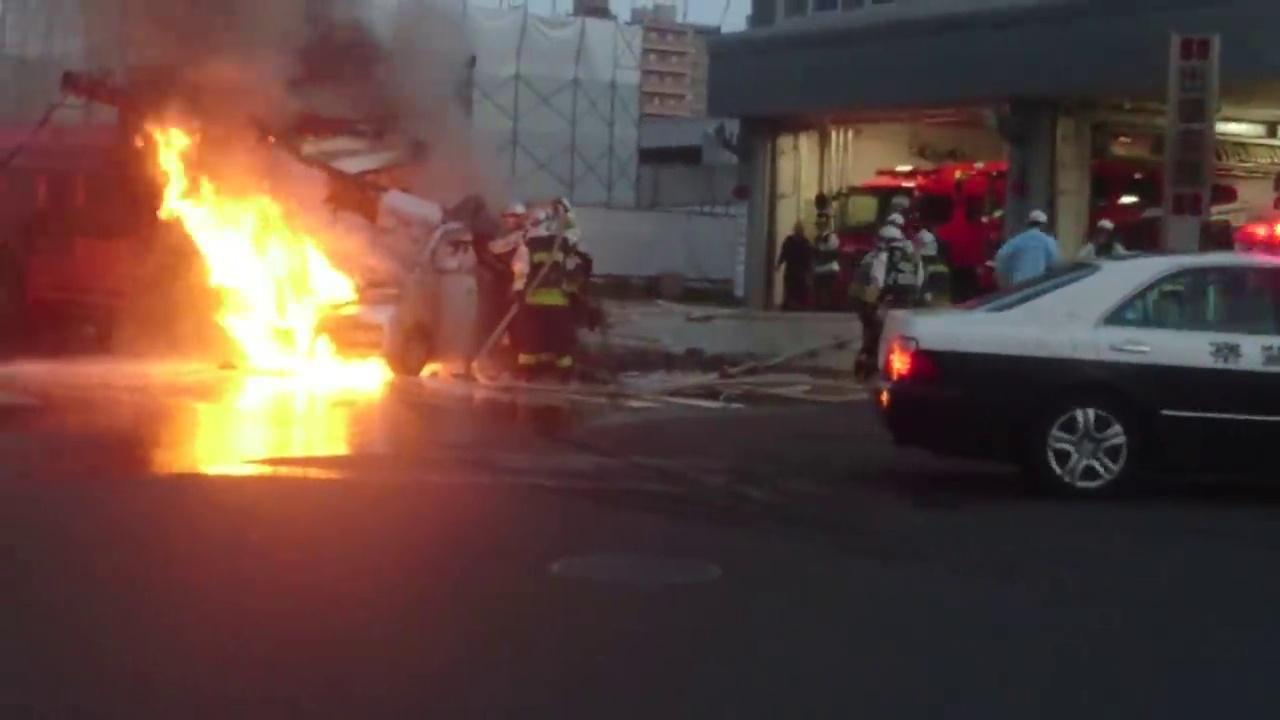Fire: (152, 118, 408, 424)
